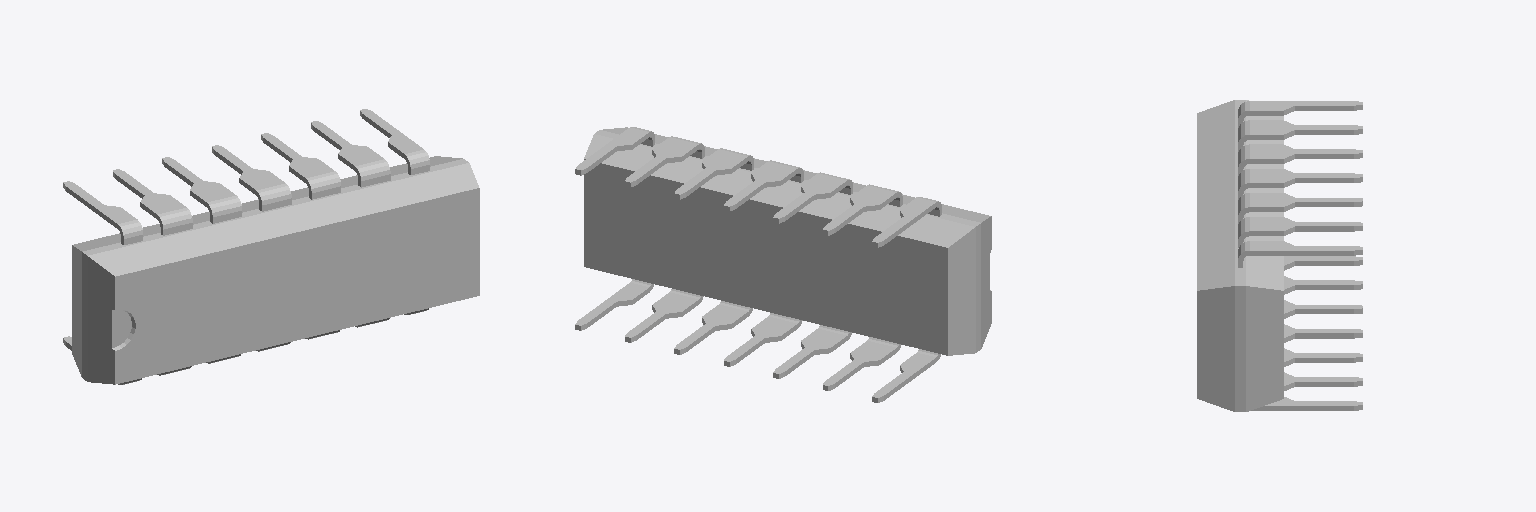
File: DIP-14P-M02.obj
3 renders of one model, left to right at view 1: azimuth 30°, elevation 25°; view 2: azimuth 150°, elevation 25°; view 3: azimuth 270°, elevation 25°, orthographic.
Visible parts, largest first — view 1: Solid1; view 2: Solid1; view 3: Solid1.
Part boxes in pixels (x1,y1,x2,y2): Solid1: (63, 109, 479, 384); Solid1: (575, 127, 991, 402); Solid1: (1197, 100, 1362, 411).
Size of the model in its own units: 19.6 by 7.87 by 7.36.